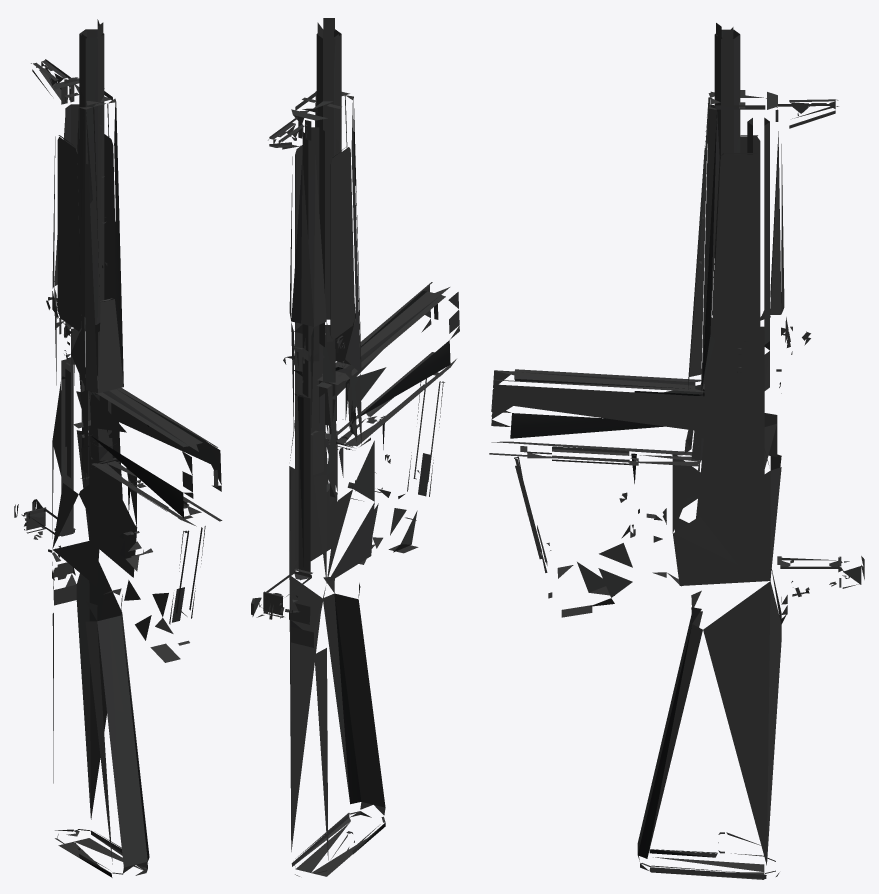
3 views of the same model, side by side, from view 1: azimuth 30°, elevation 25°; view 2: azimuth 150°, elevation 25°; view 3: azimuth 270°, elevation 25° (orthographic). The views are drawn at different scales.
Parts seen in each view (by area): view 1: asset_AA12.001; view 2: asset_AA12.001; view 3: asset_AA12.001.
Boxes of the visible parts, x1,y1,x2,y2 form: asset_AA12.001: (14,19,222,877); asset_AA12.001: (251,18,459,876); asset_AA12.001: (489,23,864,879).
Size of the model in its own units: 0.0305 by 0.582 by 0.2317.
